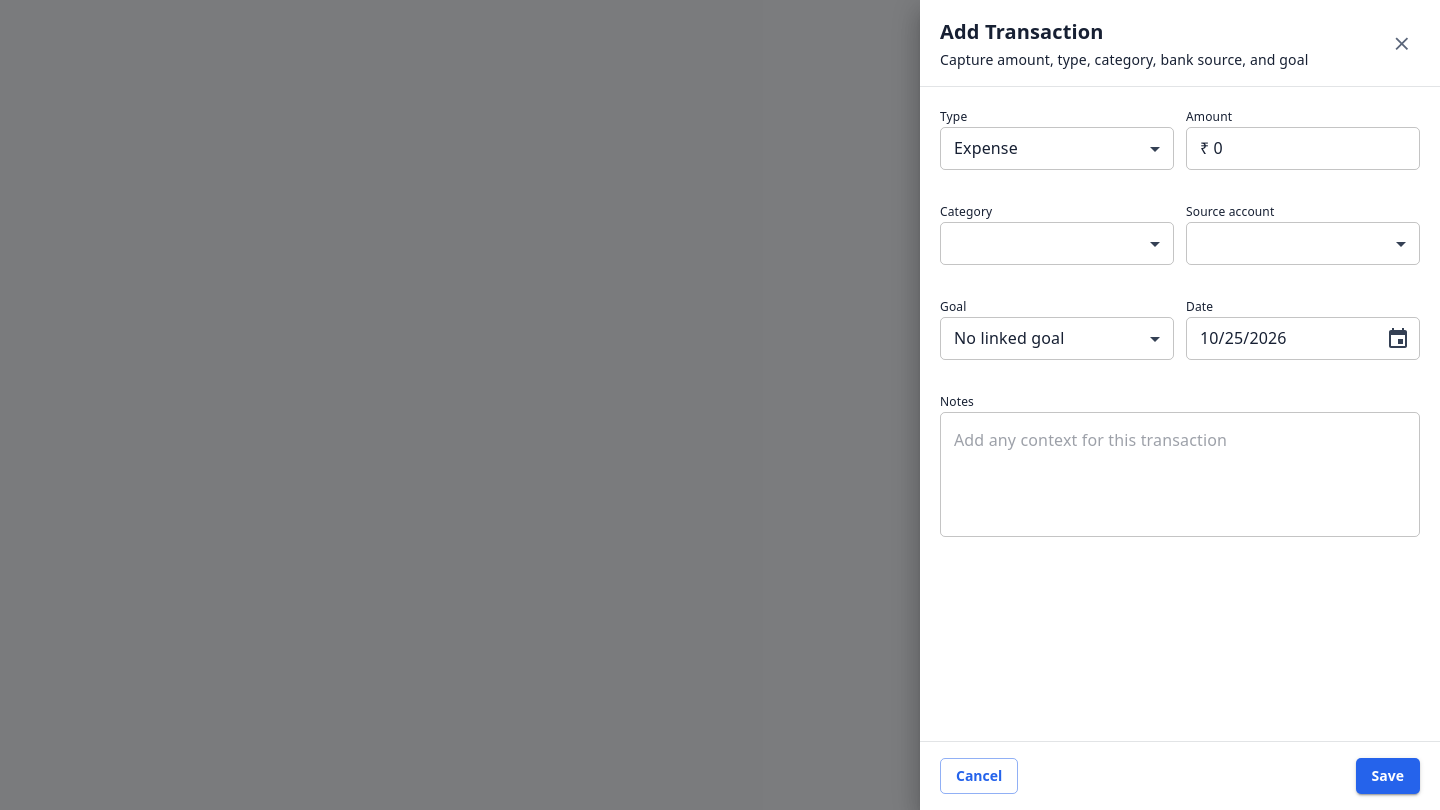
Test case: TransactionsAddEditDrawer › does not submit an expense until required fields are valid
This screenshot has width=1440, height=810.
Click the button "Save".
click(1388, 776)  # box [1356,758,1420,794]
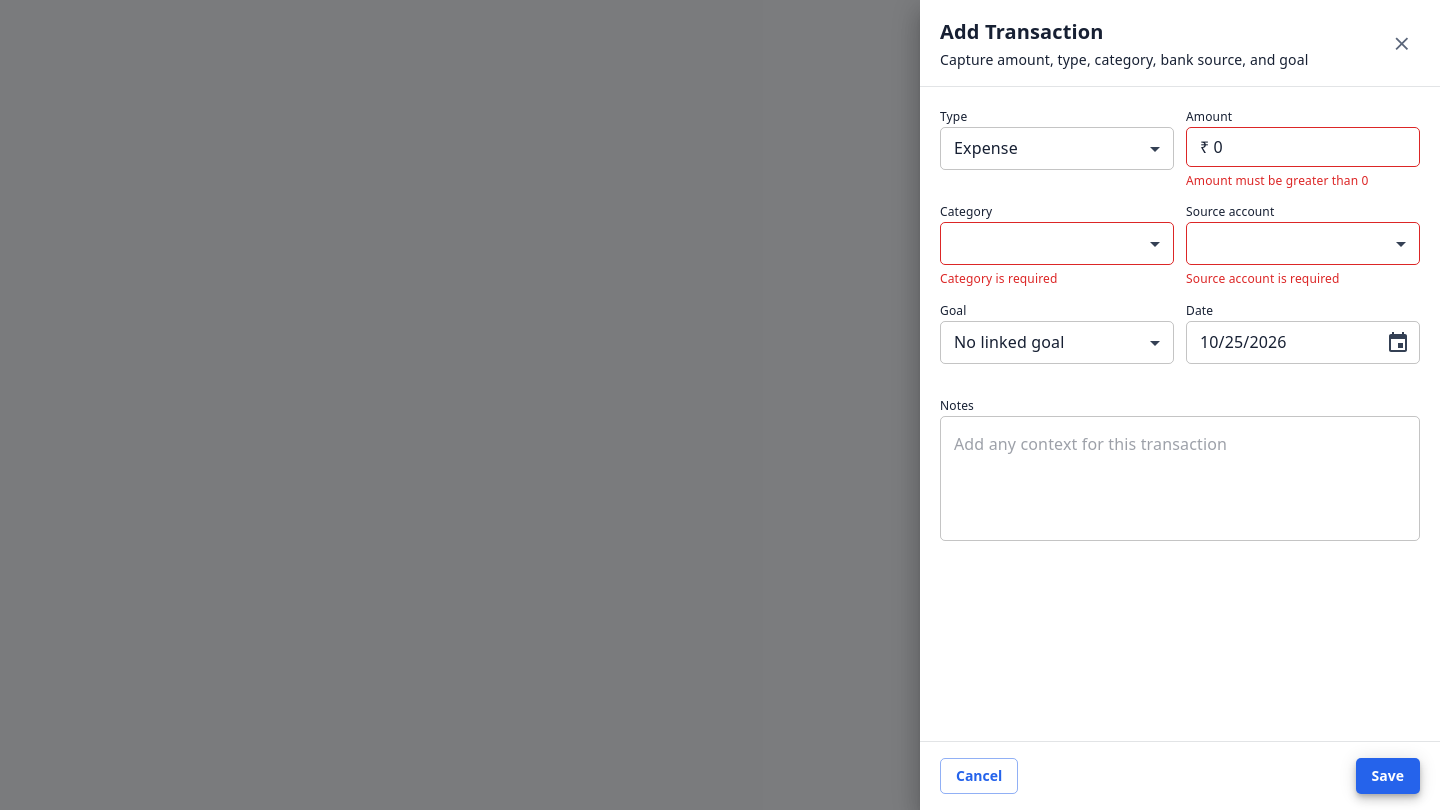
Expected: the text "Amount must be greater than 0" is shown, [1186,172,1368,189]
Expected: the text "Category is required" is shown, [940,270,1058,287]
Expected: the text "Source account is required" is shown, [1186,270,1340,287]
